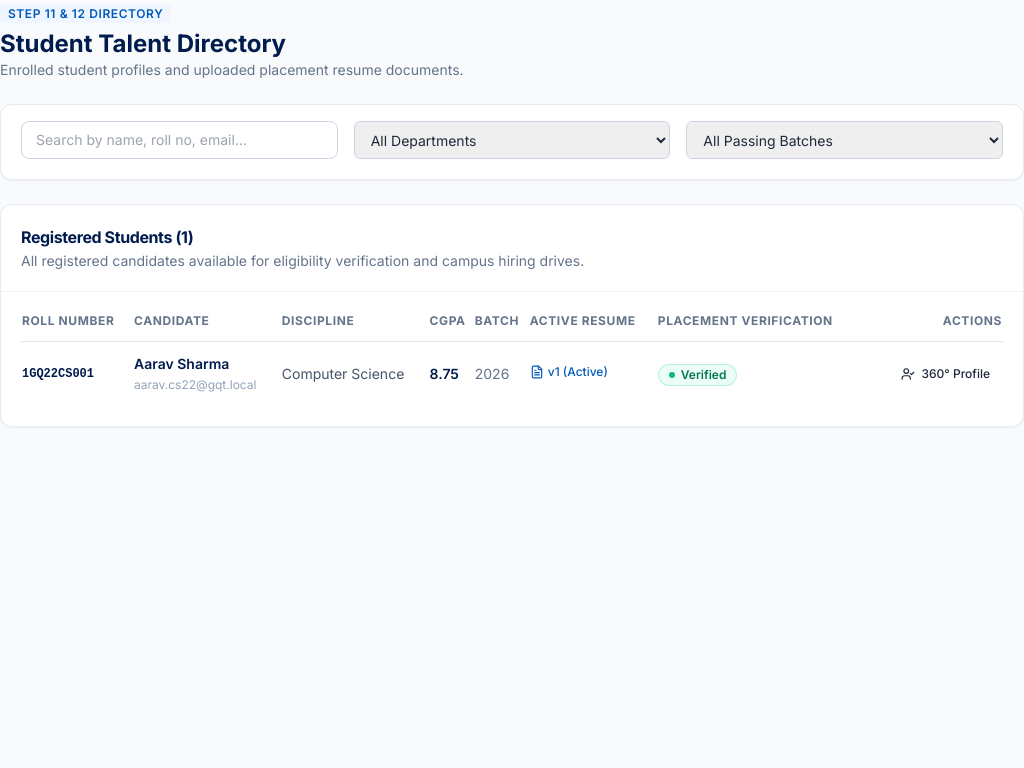
Scenario: Frontend Phase 10: CRM Database Update Suite › renders StudentDirectoryPage and opens 360-degree Candidate Profile modal
The width and height of the screenshot is (1024, 768).
Expected: the text "1GQ22CS001" is shown, [21,342,133,406]
# Click 360° Profile button to open modal
Click the button "360° Profile" at (946, 374), box [889,360,1002,388]
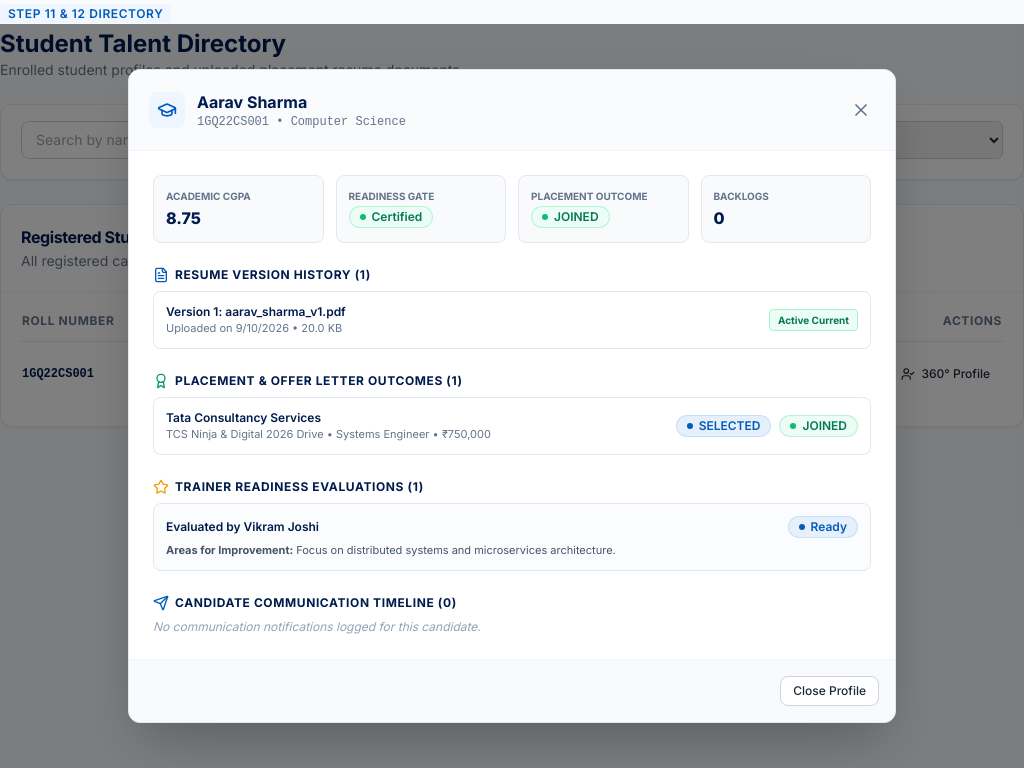
Now the heading "Resume Version History (1)" is shown, box [153,267,371,283]
Now the text "Version 1: aarav_sharma_v1.pdf" is shown, box [166,304,346,319]
Now the heading "Placement & Offer Letter Outcomes (1)" is shown, box [153,373,463,389]
